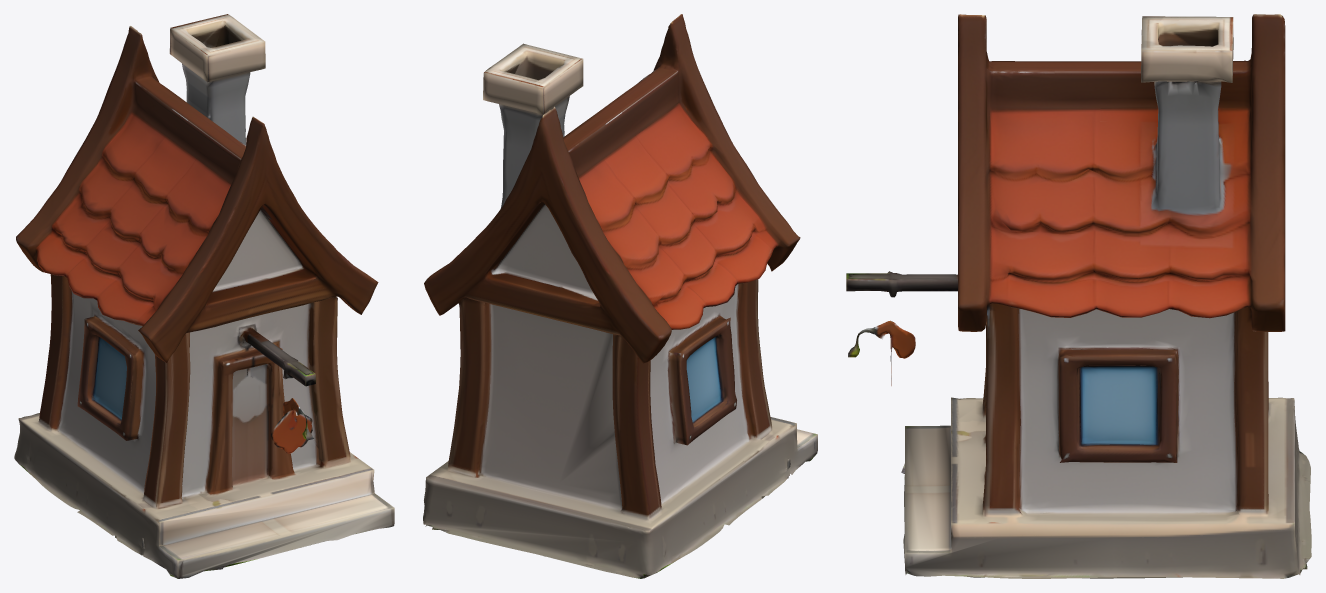
The model's file is MeatHouseEDT.fbx.
The picture shows the model from 3 angles, left to right: view 1: azimuth 30°, elevation 25°; view 2: azimuth 150°, elevation 25°; view 3: azimuth 270°, elevation 25°; orthographic projection. The views are drawn at different scales.
Visible parts, largest first — view 1: model; view 2: model; view 3: model.
Boxes of the visible parts, <box> form: model: <box>14,14,394,578</box>; model: <box>423,14,817,578</box>; model: <box>846,14,1311,578</box>.
Size of the model in its own units: 82.32 by 141 by 117.
